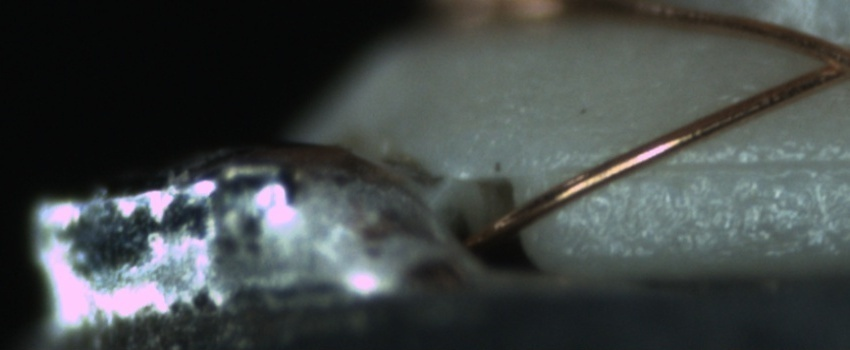CL: (801, 32, 850, 89)
DL: (574, 133, 848, 197)
